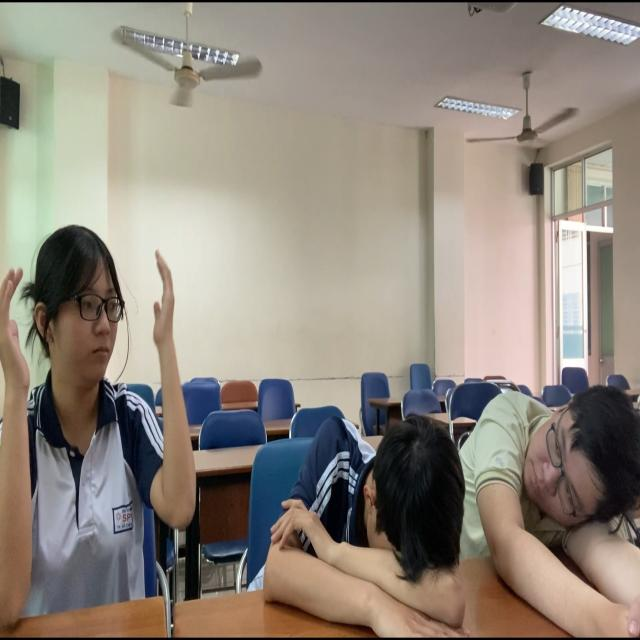sleep: (249, 410, 475, 640)
